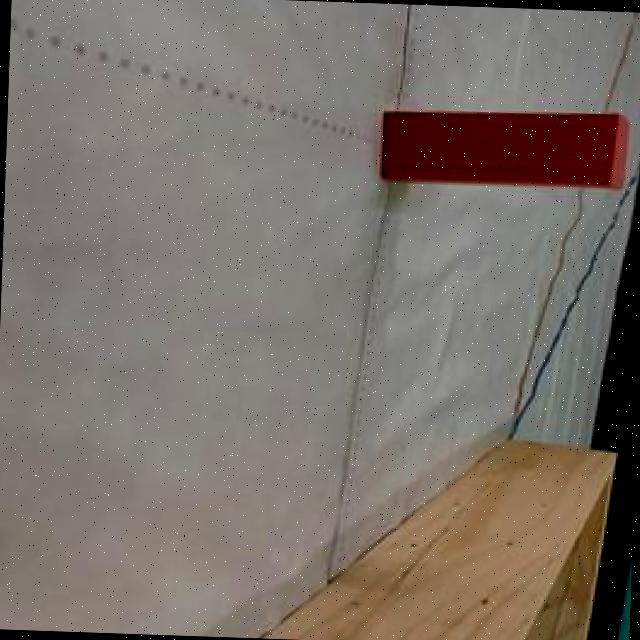redbox: (380, 104, 630, 189)
